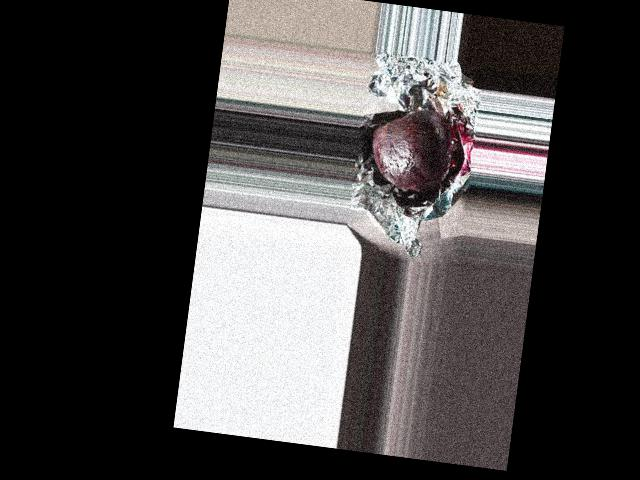beet: (366, 102, 454, 195)
